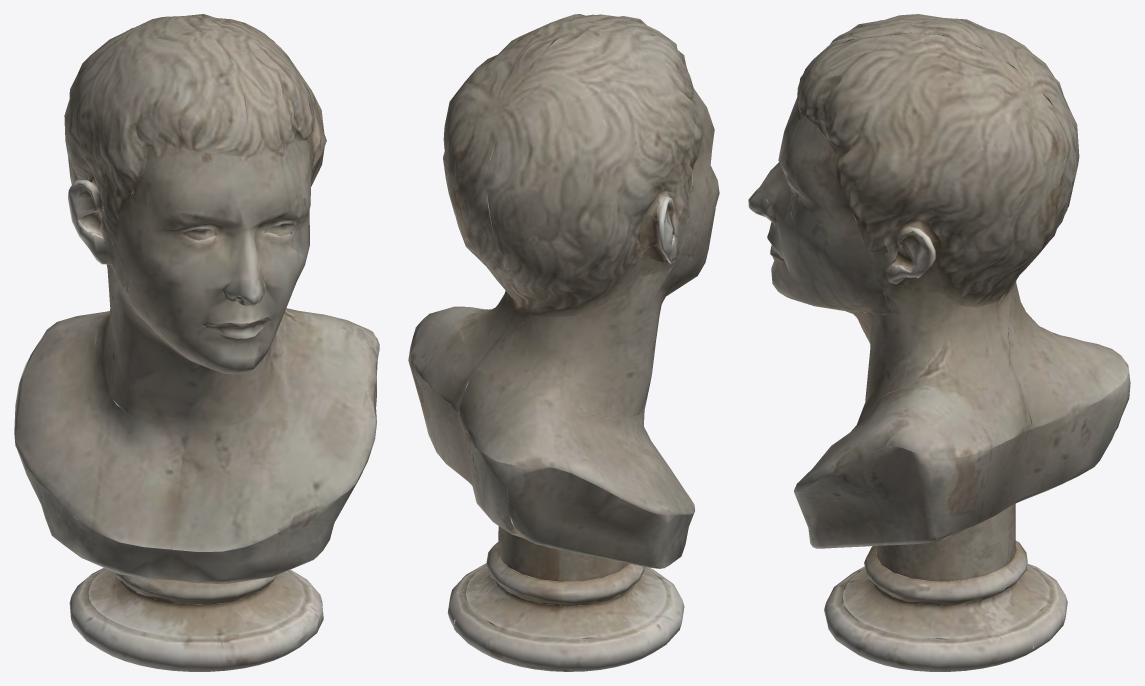
The model's file is ph_marble_bust_01.glb.
The picture shows the model from 3 angles, left to right: view 1: azimuth 30°, elevation 25°; view 2: azimuth 150°, elevation 25°; view 3: azimuth 270°, elevation 25°; orthographic projection. The views are drawn at different scales.
Parts seen in each view (by area): view 1: marble_bust_01; view 2: marble_bust_01; view 3: marble_bust_01.
Boxes of the visible parts, box(x1,y1,x2,y2) form: marble_bust_01: box(14, 14, 379, 671); marble_bust_01: box(408, 14, 719, 671); marble_bust_01: box(748, 14, 1130, 671).
Size of the model in its own units: 0.2716 by 0.5151 by 0.2996.
Materials: 1 (1 with a texture image).
